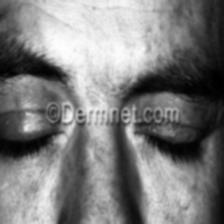Non-Cancerous Skin Condition: (66, 138, 152, 210), (152, 0, 201, 60), (0, 8, 25, 43)
